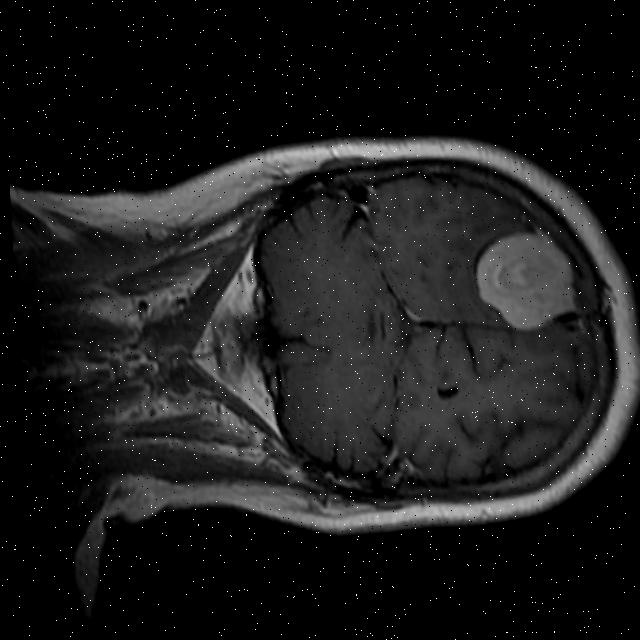Meningioma: (459, 216, 591, 346)
